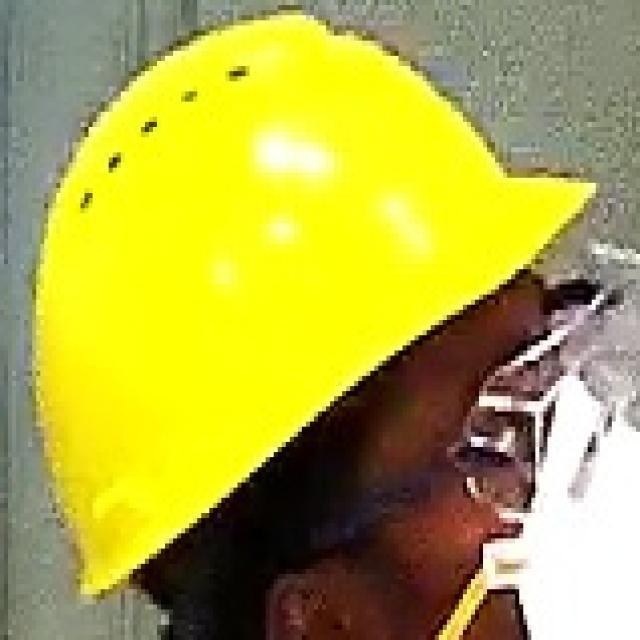yellow helmet: (21, 1, 616, 594)
